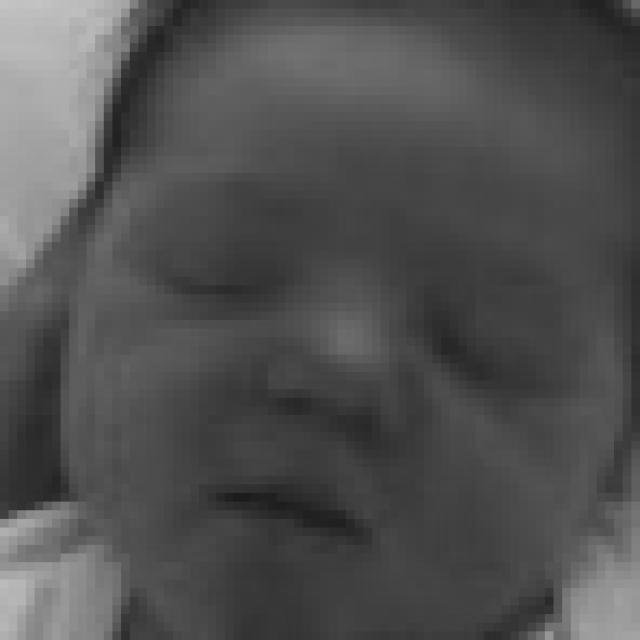real: (62, 0, 640, 640), (120, 226, 582, 386)
